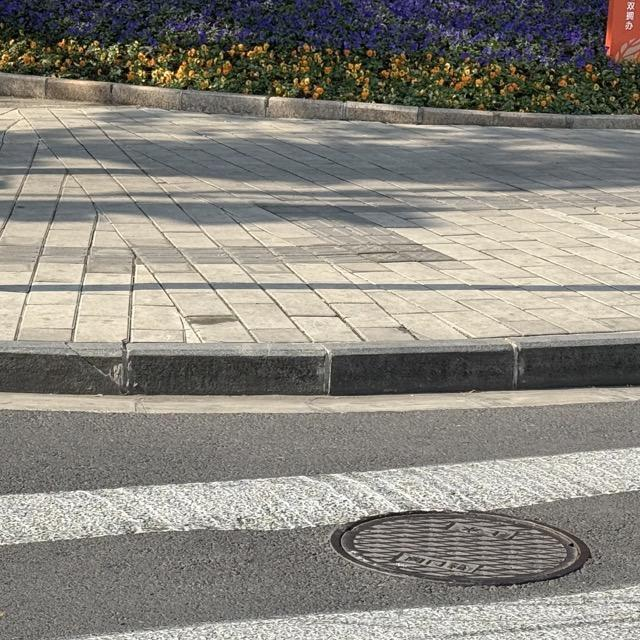curb: (0, 333, 639, 395), (0, 73, 639, 129)
